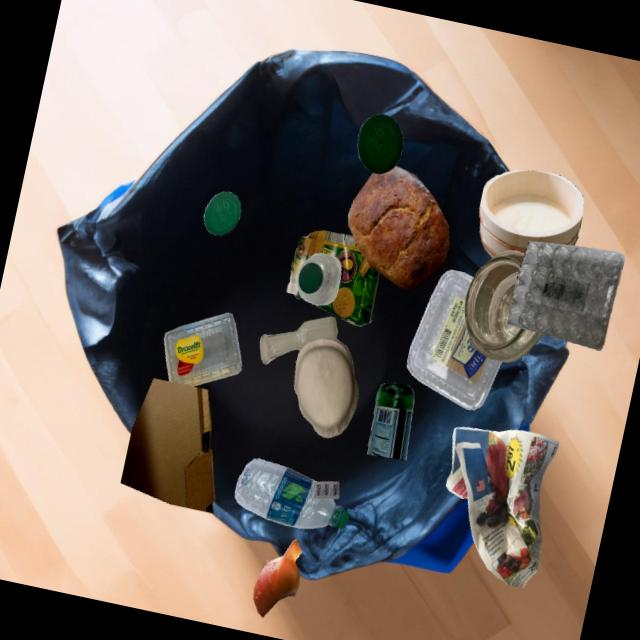biowaste: (347, 165, 449, 289), (253, 539, 301, 617)
cardboard: (120, 378, 215, 513), (286, 230, 379, 326)
combustible waste: (478, 170, 583, 257)
glass: (464, 250, 542, 362), (259, 316, 337, 364), (367, 383, 414, 460)
paper: (445, 427, 559, 588), (293, 337, 358, 437)
plastic: (406, 269, 501, 410), (506, 241, 624, 350), (234, 458, 348, 529), (164, 312, 241, 386), (357, 114, 402, 174), (296, 252, 341, 305), (203, 192, 241, 235), (313, 481, 338, 498)
